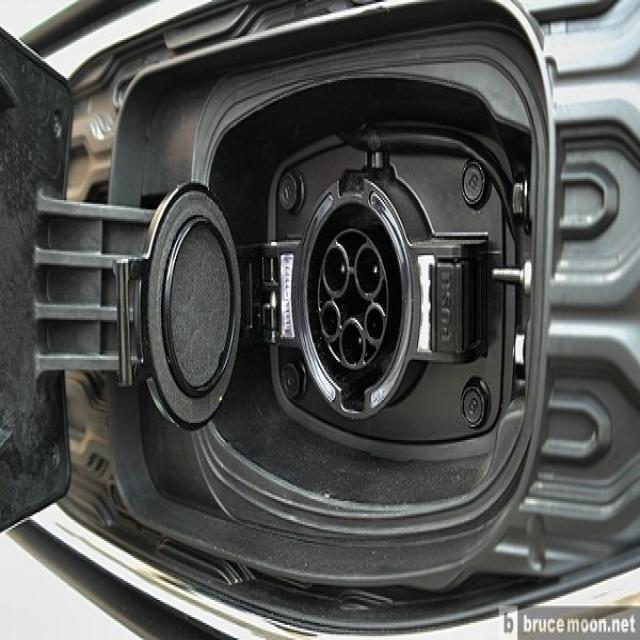Type 1: (285, 193, 436, 409)
